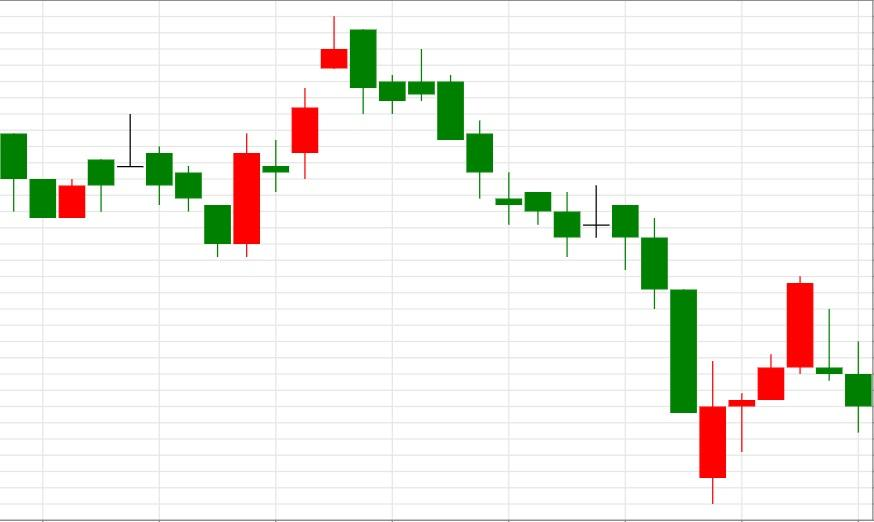bullish_engulfing_rise: (116, 112, 261, 258)
